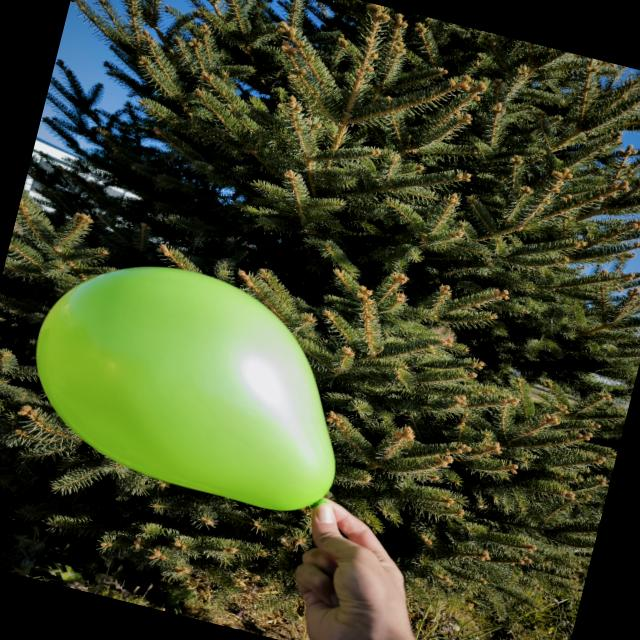balloon: (36, 267, 334, 510)
